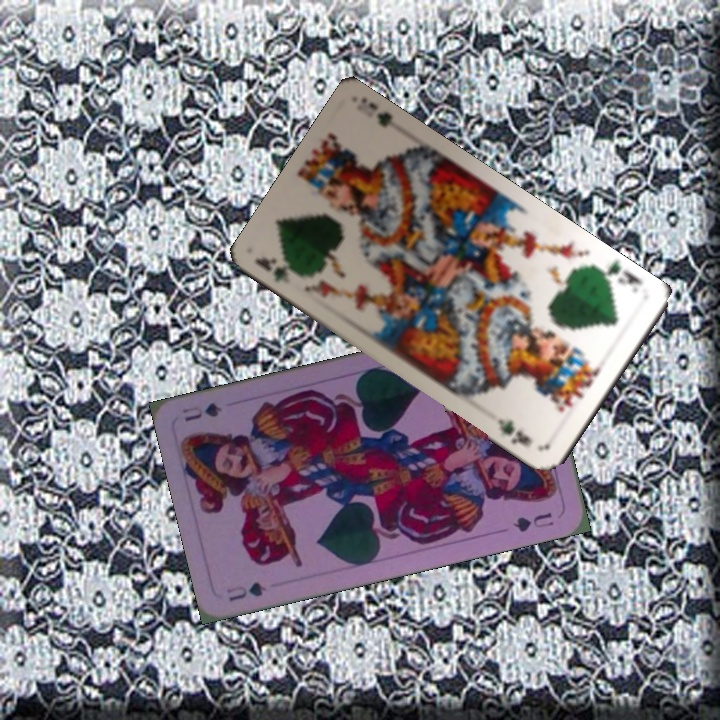GK: (594, 258, 646, 296), (251, 253, 293, 287)
GU: (222, 578, 269, 604)
